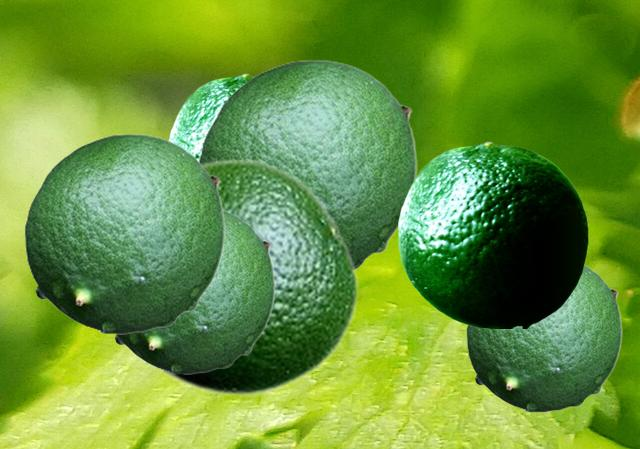calamansi: (141, 157, 359, 397), (198, 59, 416, 271), (24, 133, 224, 333), (398, 141, 587, 327), (112, 207, 274, 373), (466, 263, 621, 411), (169, 73, 253, 157)
